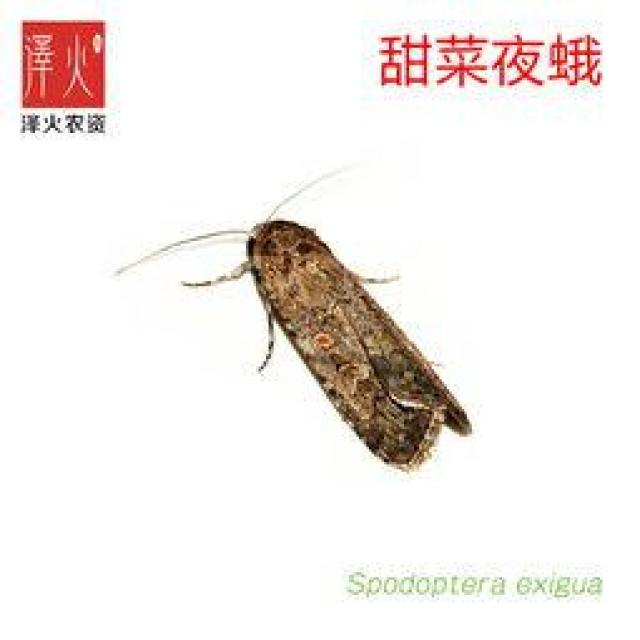BeetArmyWorm-Adult-: (169, 192, 483, 476)
